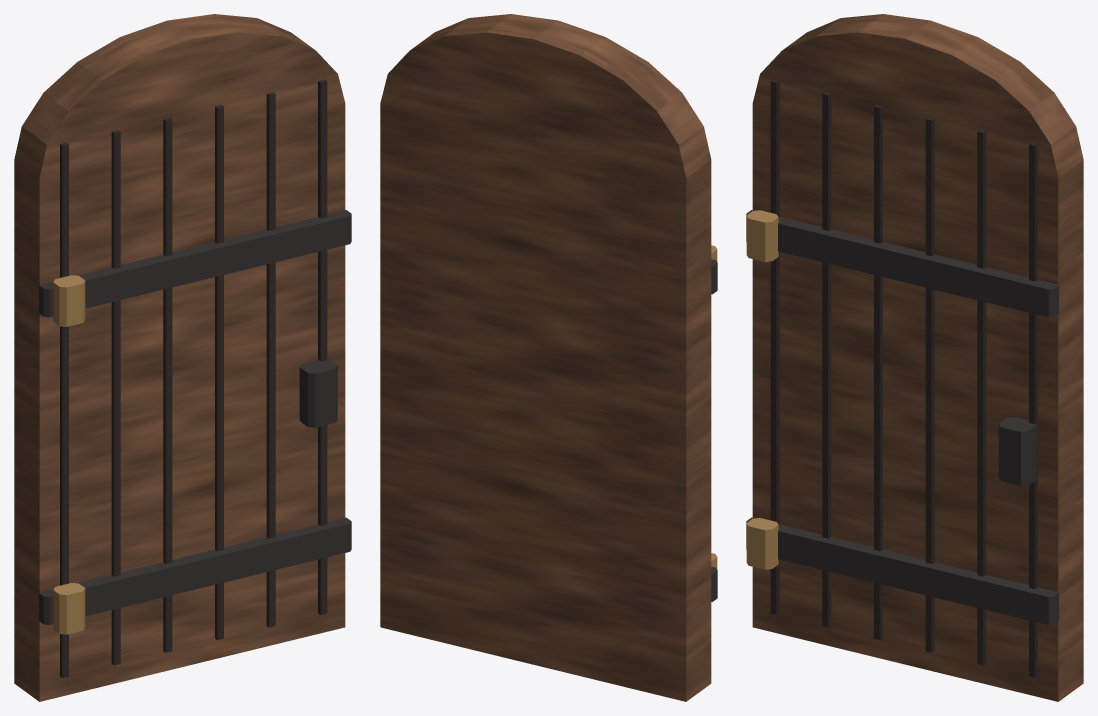
Rendered from oak_gate_leaf.glb.
The picture shows the model from 3 angles, left to right: view 1: azimuth 30°, elevation 25°; view 2: azimuth 150°, elevation 25°; view 3: azimuth 330°, elevation 25°; orthographic projection.
Parts seen in each view (by area): view 1: Oak Gate Leaf; view 2: Oak Gate Leaf; view 3: Oak Gate Leaf.
Boxes of the visible parts, box(x1,y1,x2,y2) form: Oak Gate Leaf: box(14, 14, 351, 701); Oak Gate Leaf: box(380, 14, 717, 701); Oak Gate Leaf: box(746, 14, 1083, 701).
Size of the model in its own units: 1.55 by 3.01 by 0.356.
4 materials, 1 textured.
